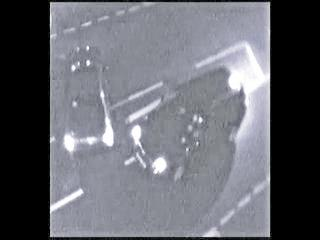Car: (138, 69, 236, 174), (62, 47, 112, 152)
